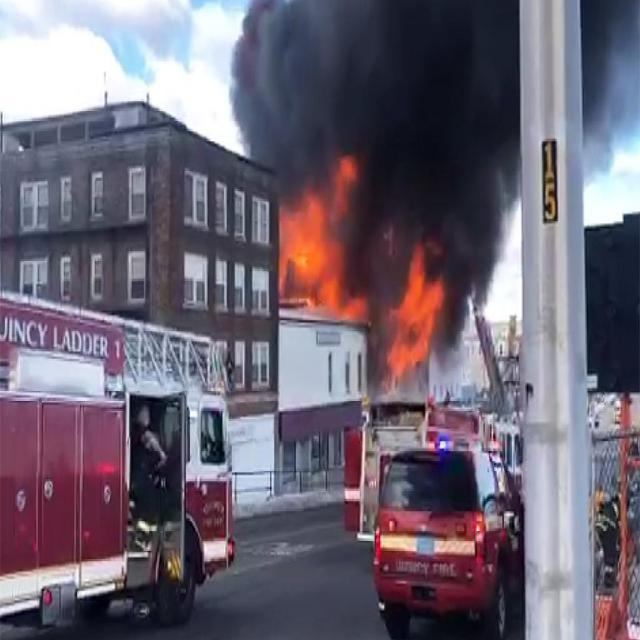Fire: (272, 142, 464, 408)
